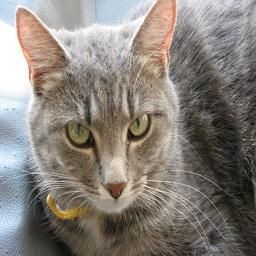cat: (128, 60, 256, 256)
